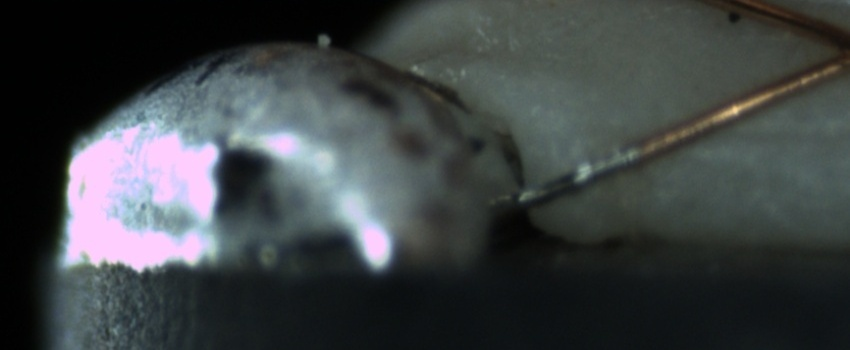CL: (802, 12, 849, 84)
DL: (699, 98, 850, 166)
TB: (564, 162, 598, 193)
TS: (503, 141, 640, 210)
TTCW: (509, 122, 675, 208)
